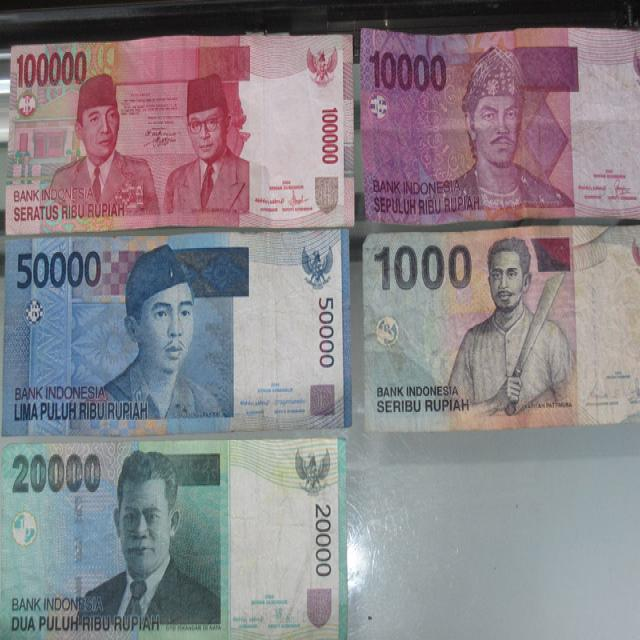dua puluh ribu rupiah: (0, 439, 343, 637)
lima puluh ribu rupiah: (5, 229, 350, 433)
sepuluh ribu rupiah: (360, 28, 639, 224)
seratus ribu rupiah: (6, 35, 353, 233)
seribu rupiah: (364, 225, 639, 431)
